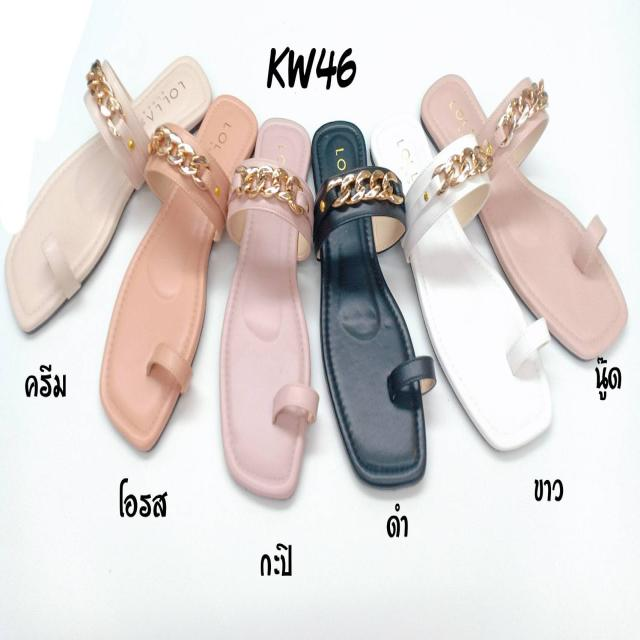black: (313, 119, 424, 492)
cream: (8, 50, 204, 316)
kapi: (225, 120, 311, 495)
nood: (424, 75, 631, 352)
orot: (101, 92, 255, 446)
white: (377, 116, 548, 455)
